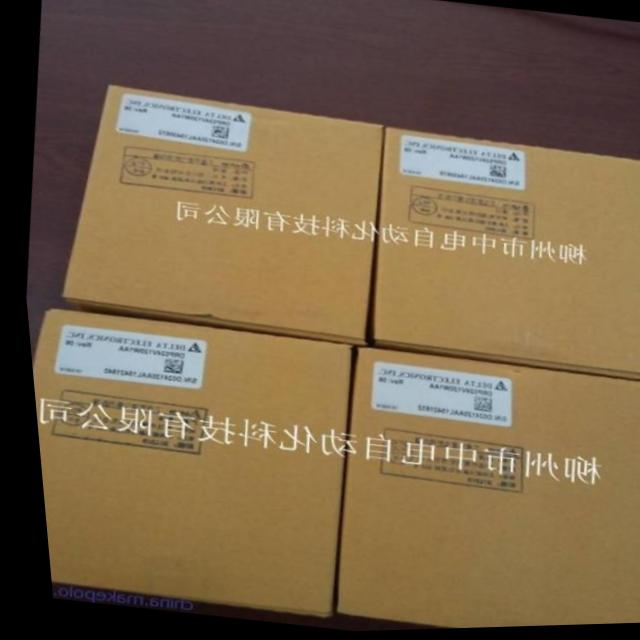box: (26, 310, 346, 621), (325, 350, 640, 631), (57, 85, 381, 346), (361, 130, 640, 385)
